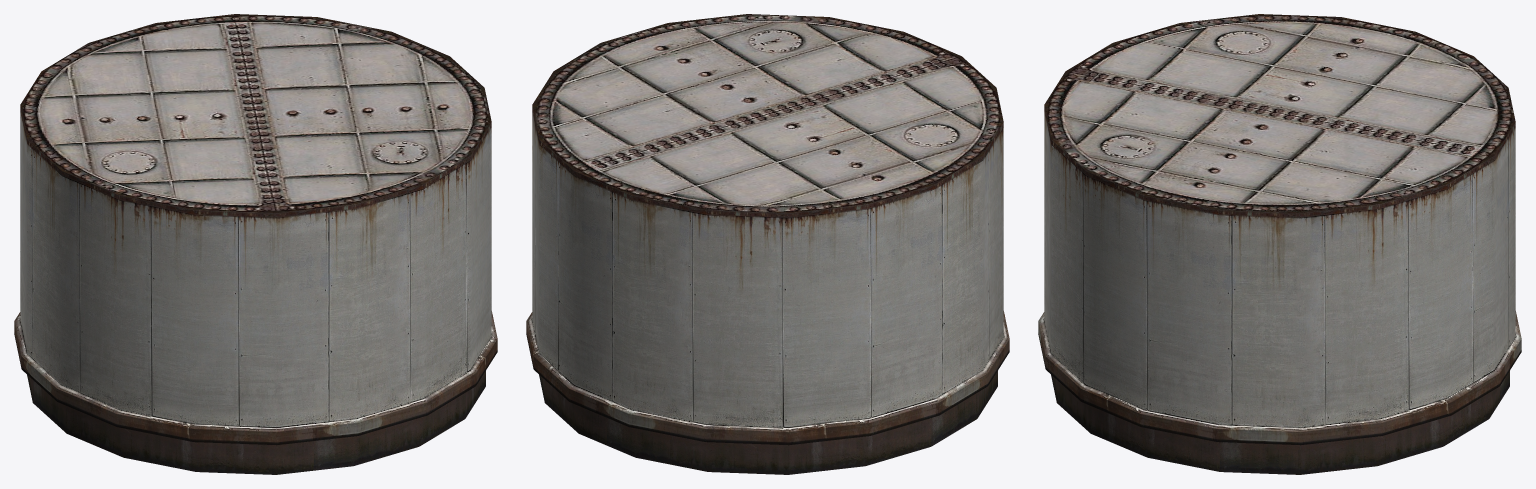
File: Oil_tank_v1 (3).glb
3 views of the same model, side by side, from view 1: azimuth 30°, elevation 25°; view 2: azimuth 150°, elevation 25°; view 3: azimuth 270°, elevation 25° (orthographic).
Parts seen in each view (by area): view 1: Oil_tank_v1 (3); view 2: Oil_tank_v1 (3); view 3: Oil_tank_v1 (3).
Part boxes in pixels (x1,y1,x2,y2): Oil_tank_v1 (3): [14, 14, 497, 474]; Oil_tank_v1 (3): [526, 14, 1009, 474]; Oil_tank_v1 (3): [1038, 14, 1521, 474].
Size of the model in its own units: 10.65 by 6.42 by 10.65.
Materials: 1 (1 with a texture image).
